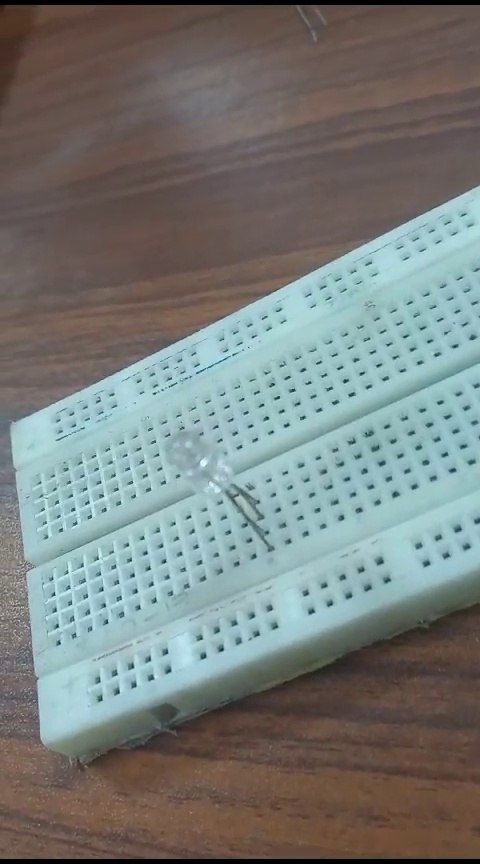LED: (142, 424, 279, 549)
